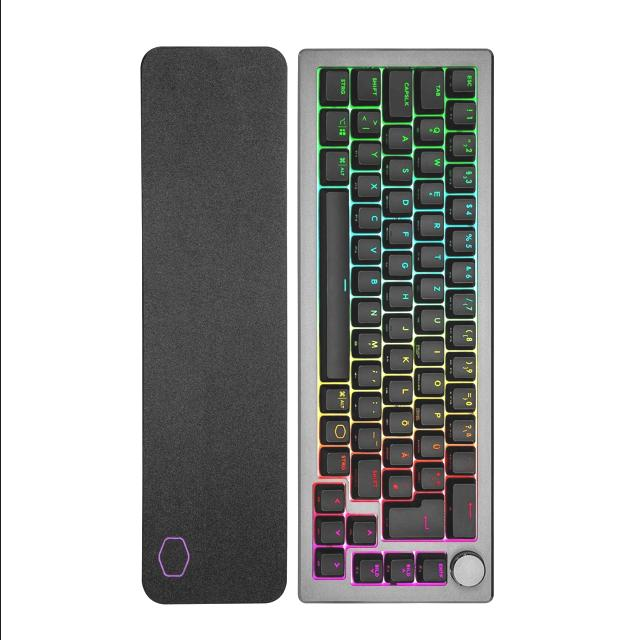0: (453, 385, 478, 411)
1: (454, 100, 478, 126)
2: (453, 132, 478, 158)
3: (451, 164, 475, 190)
4: (451, 197, 475, 223)
5: (451, 228, 475, 254)
6: (450, 261, 474, 287)
7: (451, 292, 475, 318)
8: (451, 322, 477, 350)
9: (451, 353, 477, 381)
a: (388, 124, 414, 150)
accent: (453, 450, 478, 474)
ae: (389, 442, 415, 466)
alt-left: (324, 147, 351, 183)
altgr-right: (325, 386, 351, 413)
b: (358, 268, 383, 294)
c: (359, 205, 383, 231)
comma: (357, 362, 383, 388)
d: (389, 188, 415, 213)
del: (452, 481, 478, 539)
e: (421, 181, 446, 206)
enter: (388, 494, 446, 539)
f: (389, 221, 415, 245)
g: (389, 252, 415, 276)
h: (390, 283, 414, 308)
hash: (388, 473, 414, 498)
i: (422, 339, 446, 363)
j: (389, 315, 415, 339)
k: (390, 346, 415, 372)
keyboard: (296, 48, 494, 604)
l: (390, 378, 415, 402)
less: (357, 108, 383, 134)
m: (358, 330, 384, 356)
minus: (358, 425, 383, 451)
n: (358, 299, 383, 325)
o: (421, 369, 446, 395)
oe: (389, 410, 415, 434)
p: (421, 402, 445, 427)
plus: (421, 466, 447, 490)
point: (357, 394, 383, 420)
q: (420, 116, 446, 142)
r: (421, 212, 446, 238)
s: (389, 157, 414, 181)
shift-left: (357, 68, 383, 103)
shift-lock: (389, 69, 415, 119)
shift-right: (357, 458, 383, 498)
space: (323, 187, 351, 381)
ss: (451, 418, 476, 442)
strg-left: (325, 67, 351, 103)
strg-right: (324, 447, 352, 476)
t: (422, 244, 446, 268)
tab: (421, 69, 446, 110)
u: (421, 307, 446, 333)
ue: (421, 434, 447, 458)
v: (358, 236, 383, 261)
w: (421, 148, 446, 174)
x: (357, 173, 383, 199)
y: (359, 141, 383, 165)
z: (421, 276, 446, 300)
